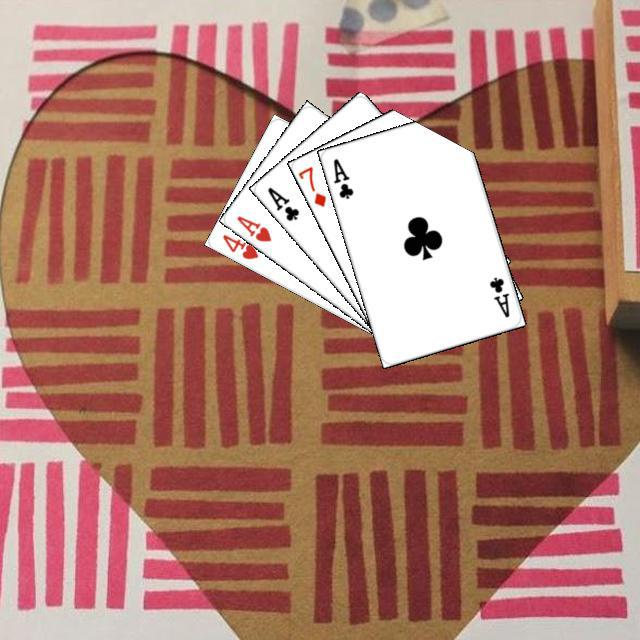4h: (217, 229, 260, 261)
7d: (294, 161, 328, 209)
Ac: (262, 182, 301, 223), (328, 153, 355, 201), (484, 272, 511, 319)
Ah: (231, 211, 273, 244)
